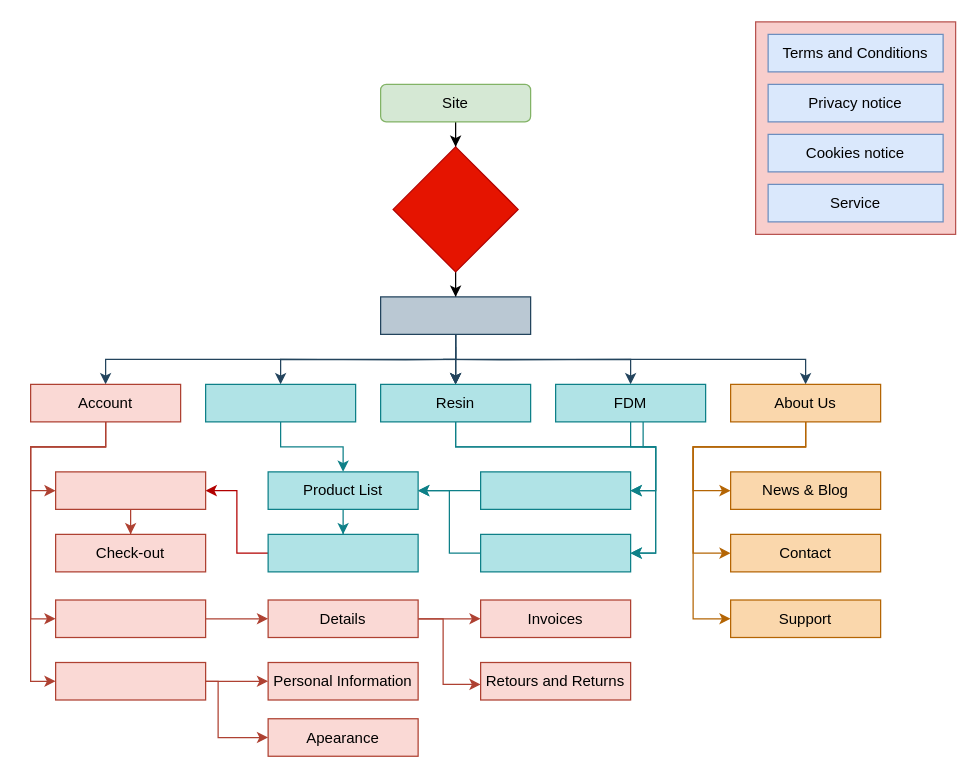
This 978x779 diagram has some shape labels left out. Each missing label, with the centre of its shape:
"Basket" goes at pixel 130 490.
"Filament" goes at pixel 555 552.
"Homepage" goes at pixel 455 315.
"Language selection" goes at pixel 455 209.
"Orders" goes at pixel 130 618.
"Printers" goes at pixel 555 490.
"Product Information" goes at pixel 342 552.
"search" goes at pixel 280 402.
"Settings" goes at pixel 130 680.
